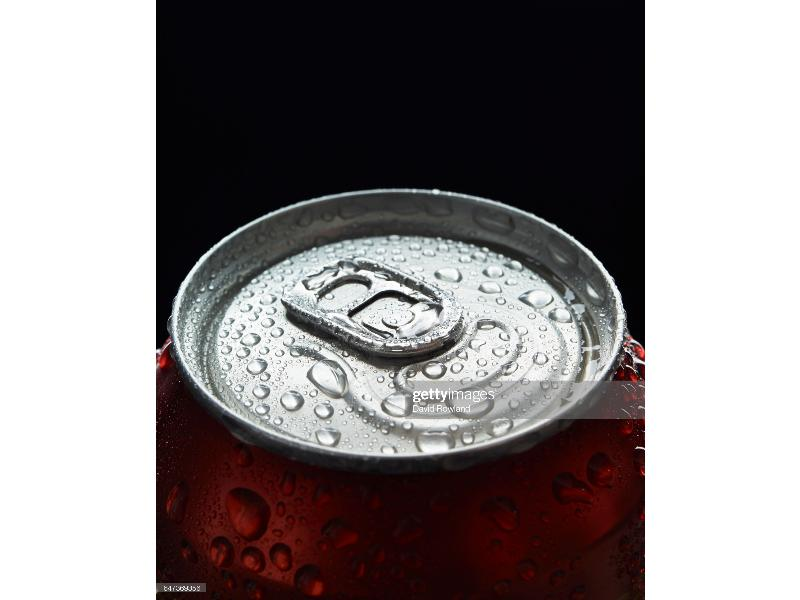can: (156, 153, 650, 595)
